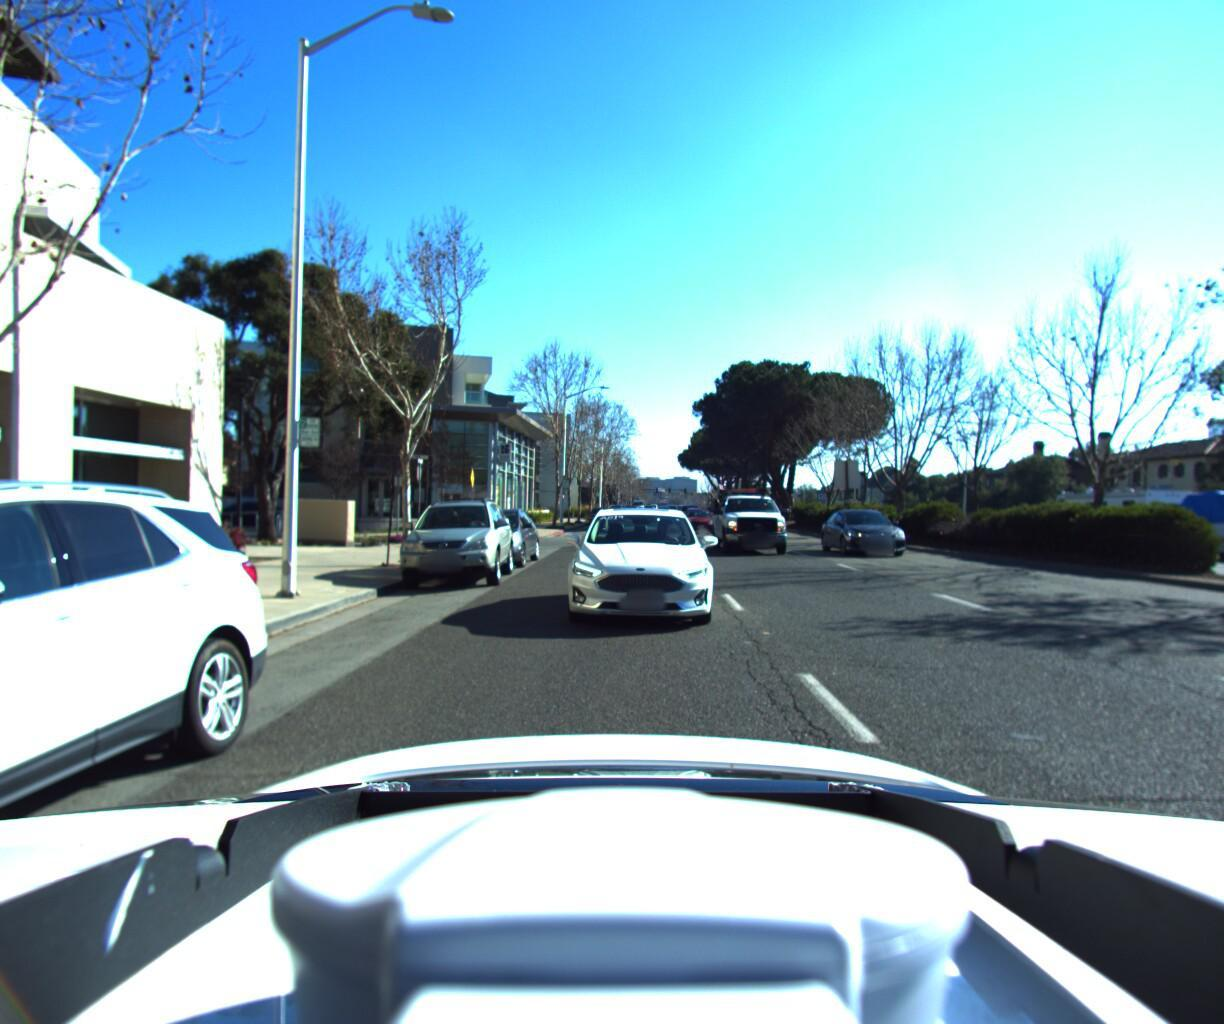car: (0, 361, 307, 1024), (554, 502, 719, 640), (385, 485, 522, 595), (444, 496, 548, 567), (707, 478, 795, 557), (823, 505, 926, 560), (672, 504, 719, 537), (587, 501, 616, 523)
other_vehicle: (1041, 468, 1217, 548), (1171, 480, 1224, 571)
